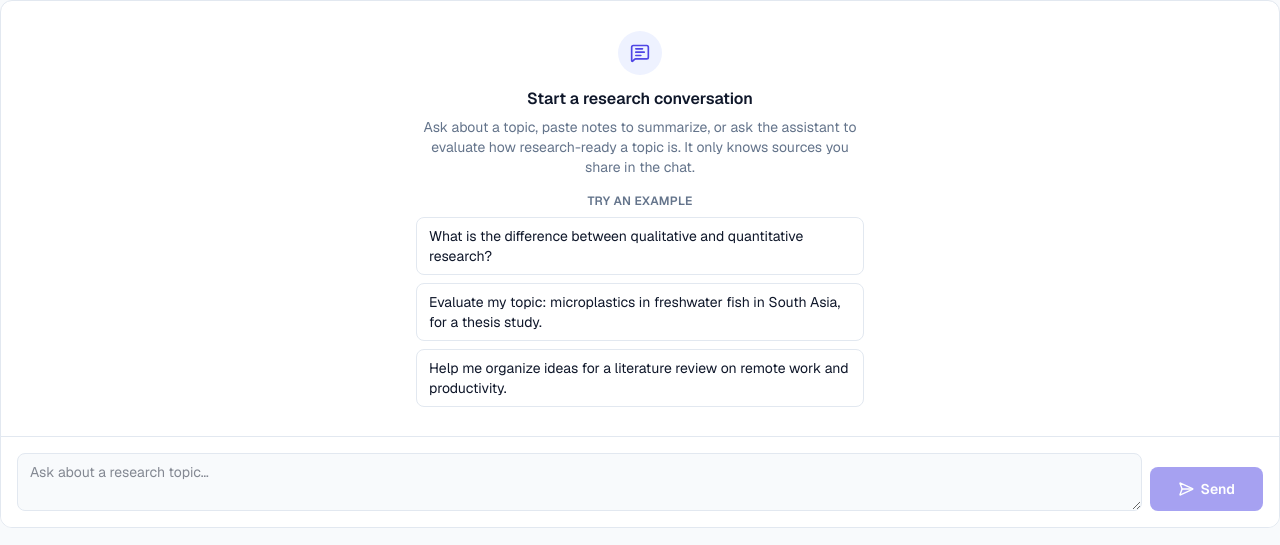
Test: Chat › keeps the partial reply when the stream fails midway
The width and height of the screenshot is (1280, 545).
Step 1. Type "How do microplastics affect freshwater fish?" into the text box named "Message the research assistant" → {"x": 580, "y": 482}, box [17,453,1142,511]
Then press Enter
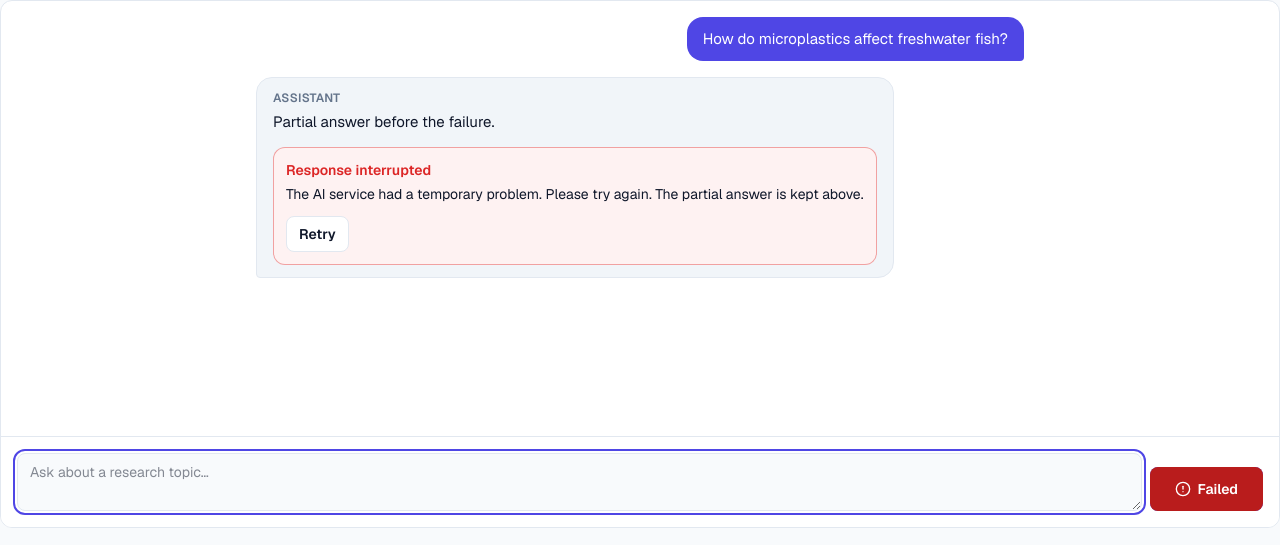
Now the text "Response interrupted" is shown, box [286,161,431,179]
Now the text "The partial answer is kept above." is shown, box [286,185,864,203]
Now the button "Retry" is enabled, box [286,216,349,252]
